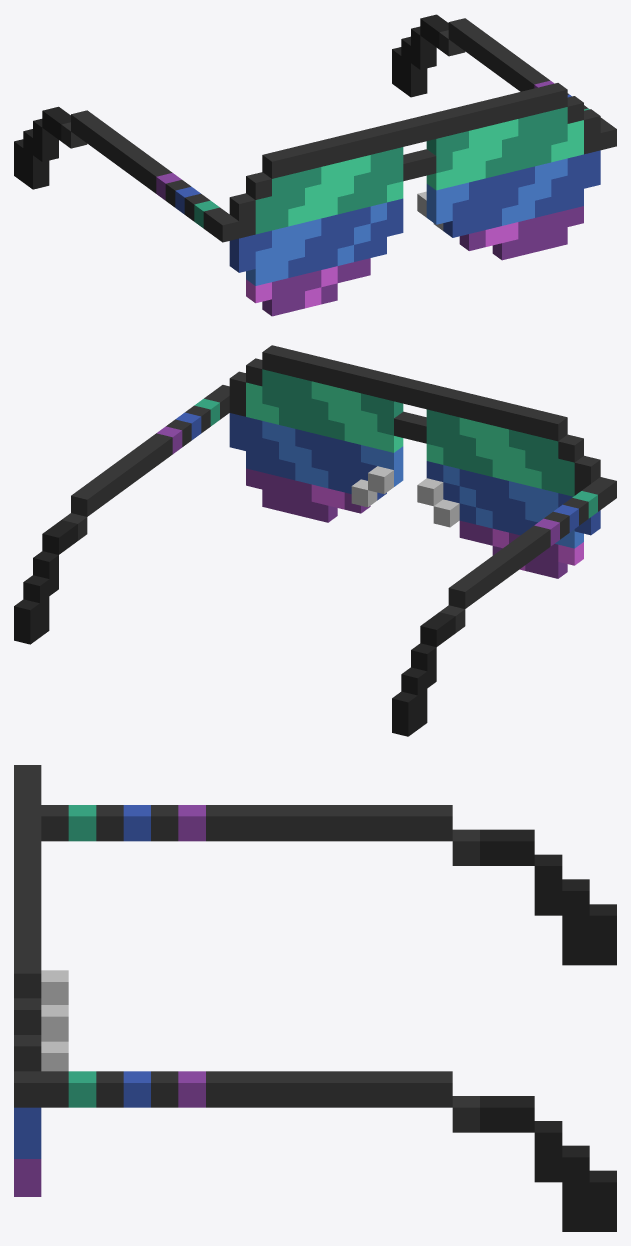
The model's file is sunglasses.glb.
3 views of the same model, one above another, from view 1: azimuth 30°, elevation 25°; view 2: azimuth 150°, elevation 25°; view 3: azimuth 270°, elevation 25° (orthographic). The views are drawn at different scales.
Parts seen in each view (by area): view 1: sunglasses.vox; view 2: sunglasses.vox; view 3: sunglasses.vox.
Part boxes in pixels (x1,y1,x2,y2): sunglasses.vox: (14, 14, 616, 316); sunglasses.vox: (14, 345, 616, 736); sunglasses.vox: (14, 765, 616, 1231).
Bounding box in the file's own units: 2.4 × 0.9 × 2.2.
Materials: 1 (1 with a texture image).
